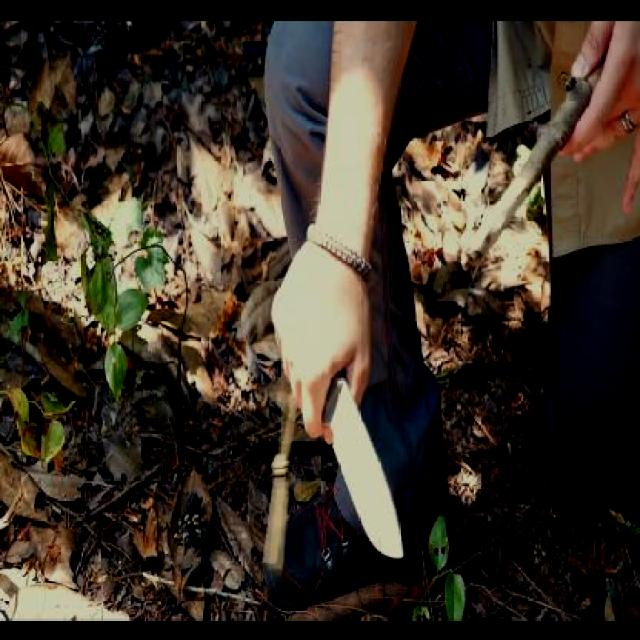knife: (277, 328, 412, 572)
